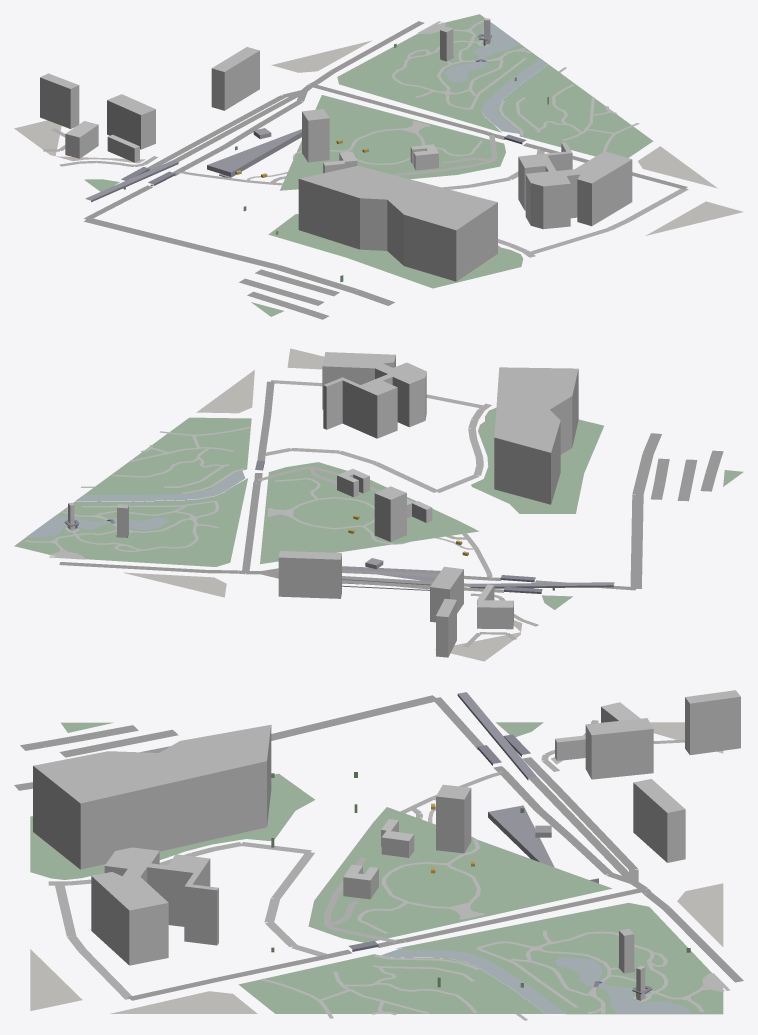
3 renders of one model, top to bottom at view 1: azimuth 30°, elevation 25°; view 2: azimuth 150°, elevation 25°; view 3: azimuth 270°, elevation 25°, orthographic. The views are drawn at different scales.
Bounding box in the file's own units: 558 × 72.64 × 527.
